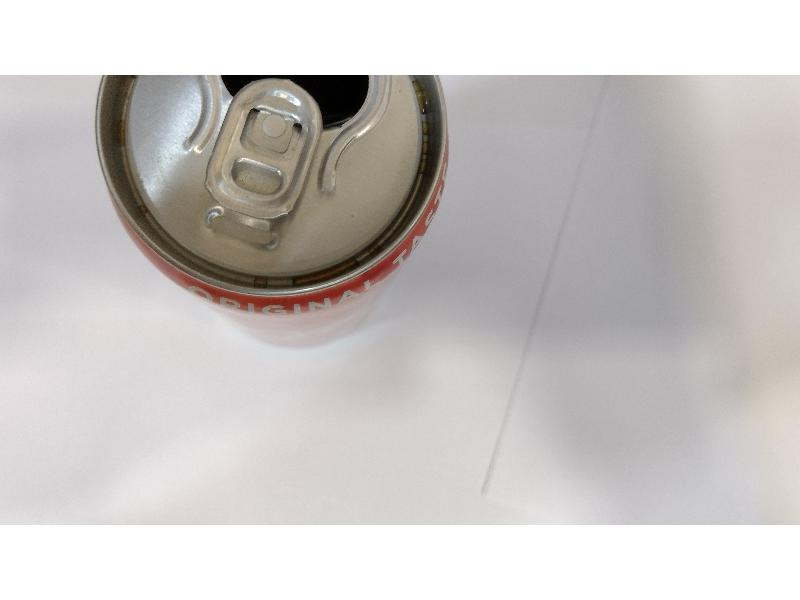can: (92, 71, 454, 334)
